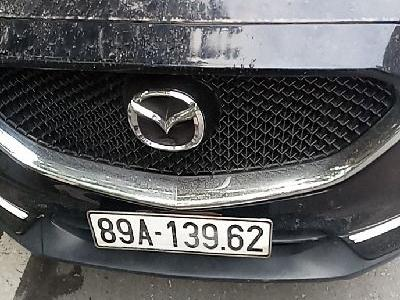car: (87, 211, 272, 260)
